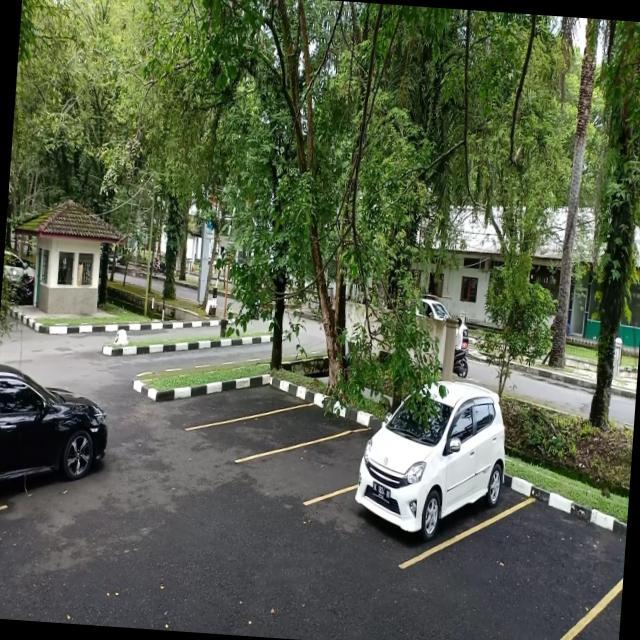empty: (449, 487, 626, 640), (269, 427, 362, 512), (220, 394, 318, 463)
occupied: (340, 410, 498, 570)
